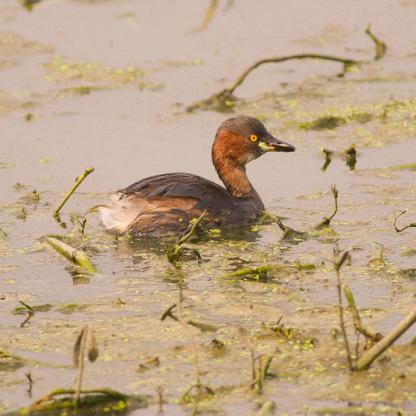Burung: (98, 115, 295, 236)
